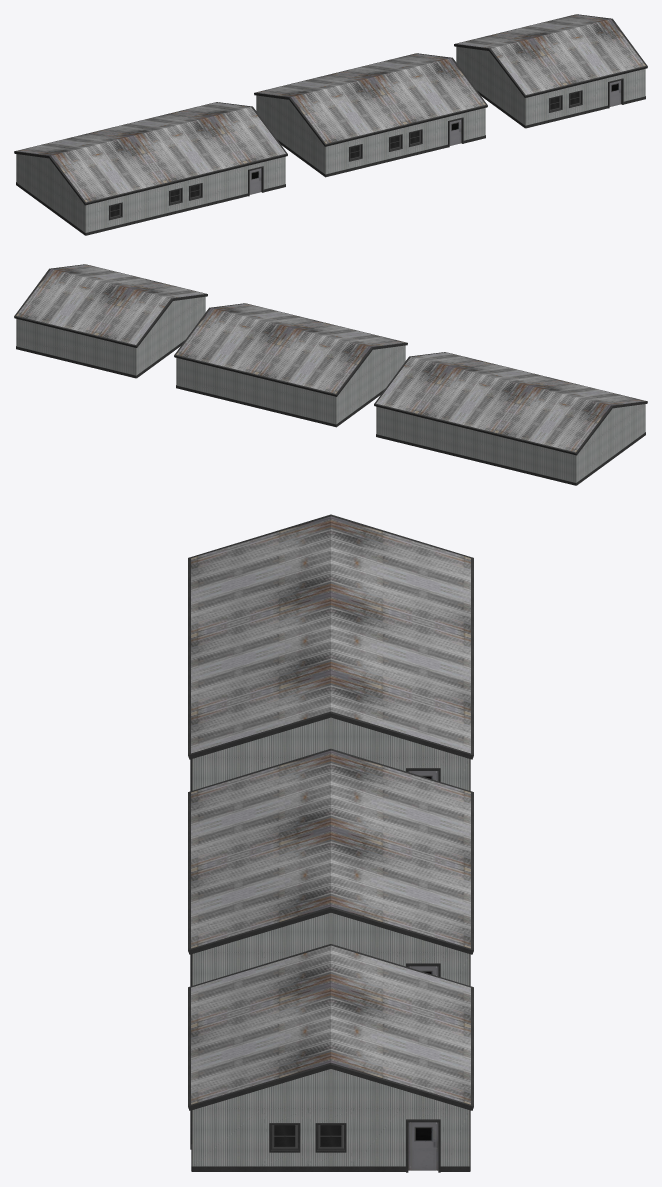
Rendered from 3 Hangar.fbx.
3 renders of one model, top to bottom at view 1: azimuth 30°, elevation 25°; view 2: azimuth 150°, elevation 25°; view 3: azimuth 270°, elevation 25°, orthographic. The views are drawn at different scales.
Parts seen in each view (by area): view 1: A_EXPOSITION.obj; view 2: A_EXPOSITION.obj; view 3: A_EXPOSITION.obj.
Part boxes in pixels (x1,y1,x2,y2): A_EXPOSITION.obj: (14, 14, 647, 235); A_EXPOSITION.obj: (14, 264, 647, 485); A_EXPOSITION.obj: (188, 514, 473, 1172).
Size of the model in its own units: 5638 by 521 by 1238.
